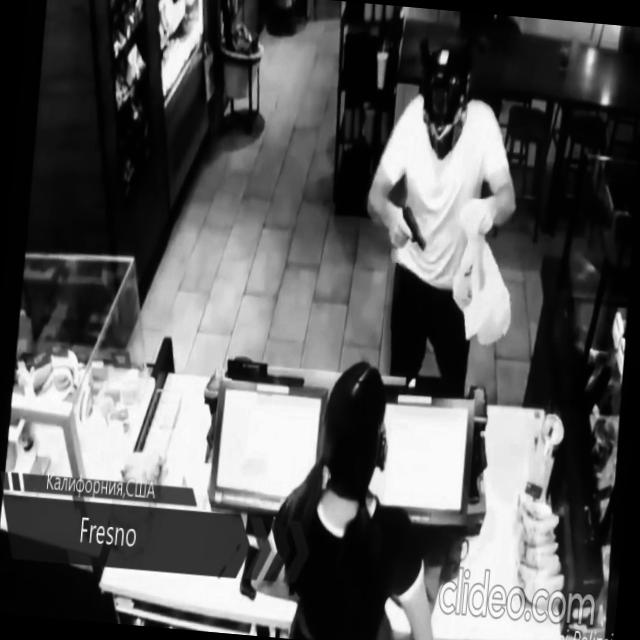gun: (397, 199, 430, 252)
person: (244, 348, 461, 640)
person with a gun: (350, 34, 531, 380)
